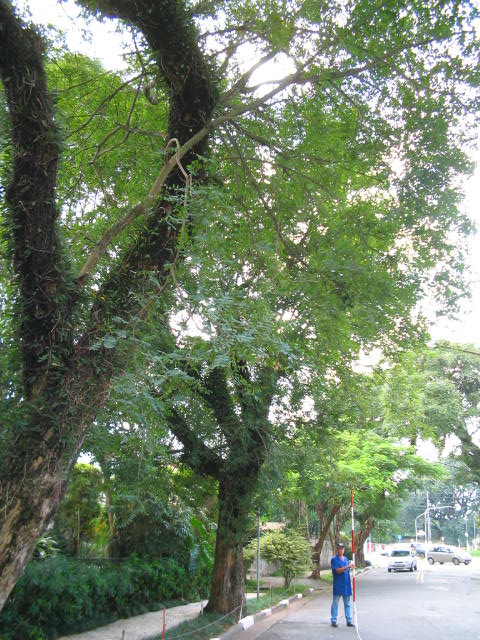crown: (4, 51, 472, 491)
stem: (198, 482, 264, 612)
stick: (346, 486, 359, 626)
tree: (1, 50, 477, 615)
